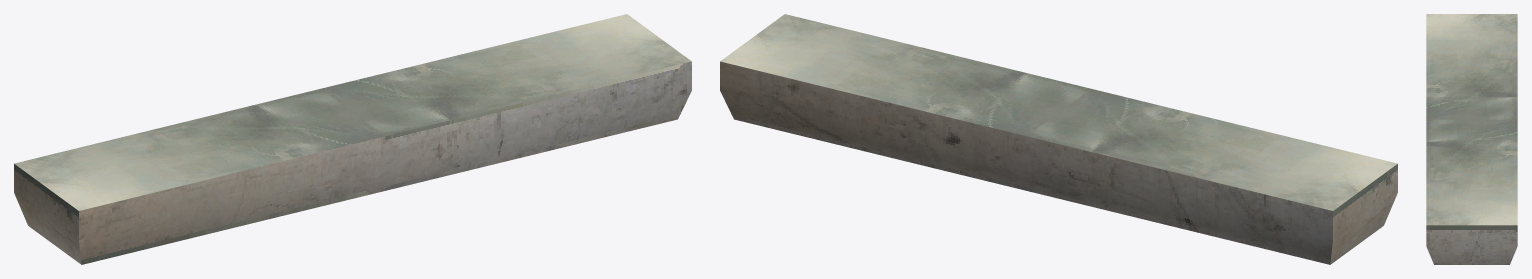
File: ceiling_light.gltf
3 views of the same model, side by side, from view 1: azimuth 30°, elevation 25°; view 2: azimuth 150°, elevation 25°; view 3: azimuth 270°, elevation 25° (orthographic). The views are drawn at different scales.
Parts seen in each view (by area): view 1: CeilingLight; view 2: CeilingLight; view 3: CeilingLight.
Boxes of the visible parts, left/top/right/bottom form: CeilingLight: left=14, top=14, right=691, bottom=264; CeilingLight: left=720, top=14, right=1397, bottom=264; CeilingLight: left=1426, top=14, right=1517, bottom=264.
Bounding box in the file's own units: 2.04 × 0.1908 × 0.3731.
Materials: 1 (1 with a texture image).
